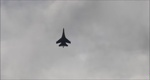maybay_muctieu: (55, 26, 73, 49)
